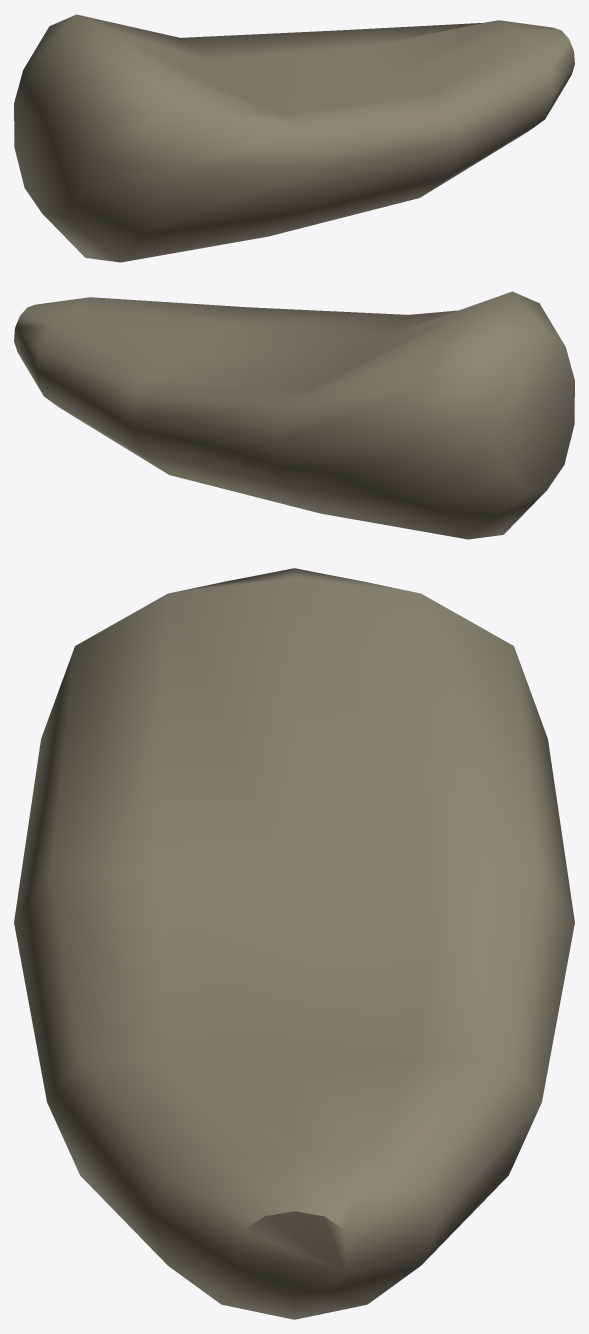
File: egg_broken.fbx
3 renders of one model, top to bottom at view 1: azimuth 30°, elevation 25°; view 2: azimuth 150°, elevation 25°; view 3: azimuth 270°, elevation 25°, orthographic. The views are drawn at different scales.
Visible parts, largest first — view 1: egg_flat; view 2: egg_flat; view 3: egg_flat.
Part boxes in pixels (x1,y1,x2,y2): egg_flat: (14,14,574,262); egg_flat: (14,291,574,539); egg_flat: (14,568,574,1319).
Size of the model in its own units: 40.96 by 17.12 by 20.
